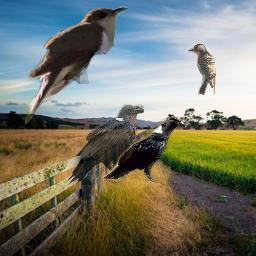Crow: (66, 104, 144, 184), (102, 117, 187, 185)
Cuckoo: (25, 5, 128, 128)
Woodpecker: (188, 43, 216, 95)
